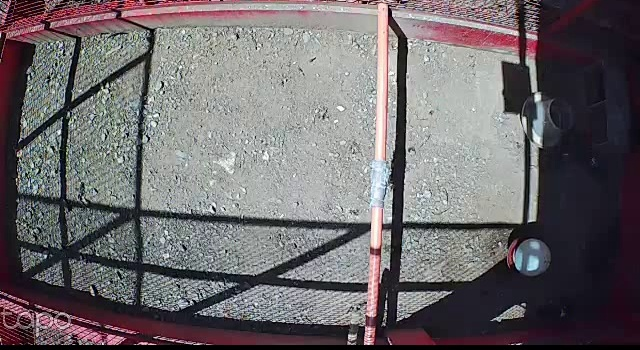Drinker: (505, 235, 553, 278)
Feeder: (519, 89, 580, 152)
